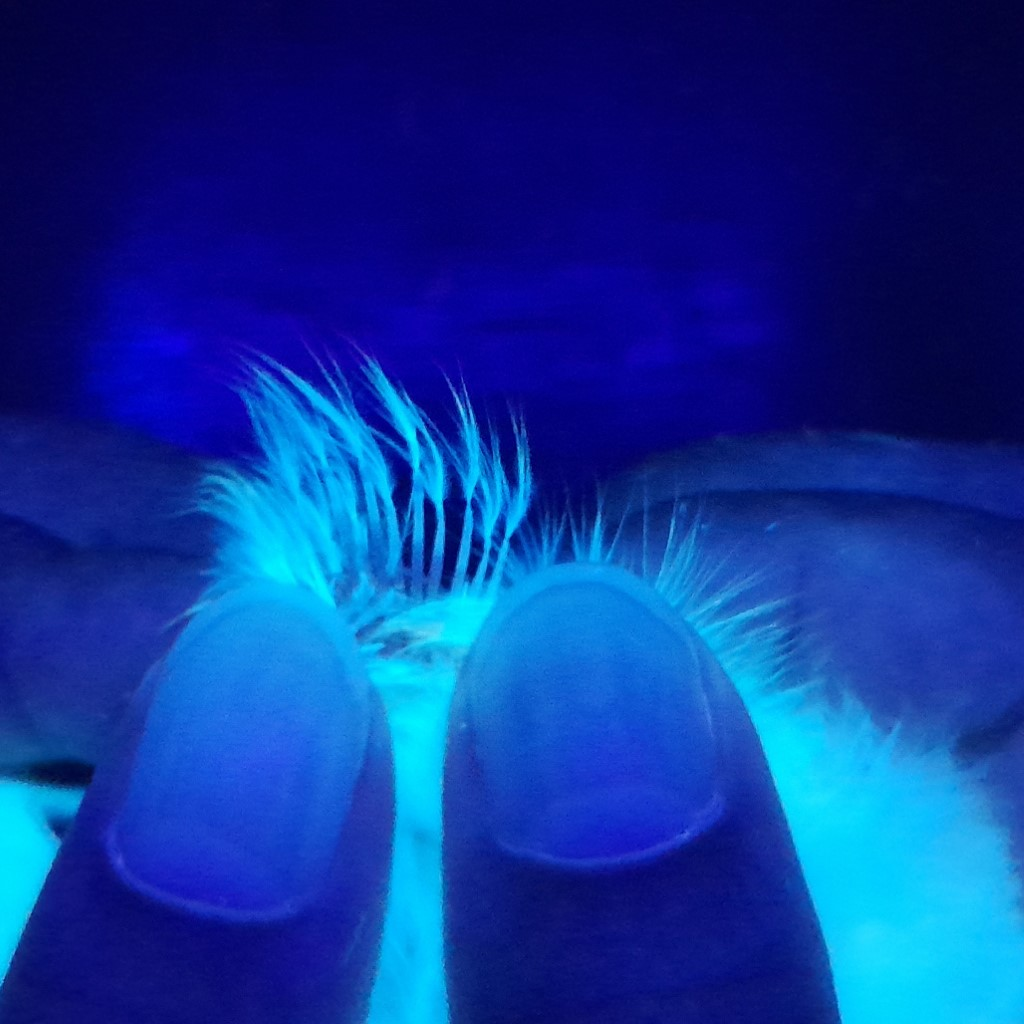male: (293, 446, 536, 694)
